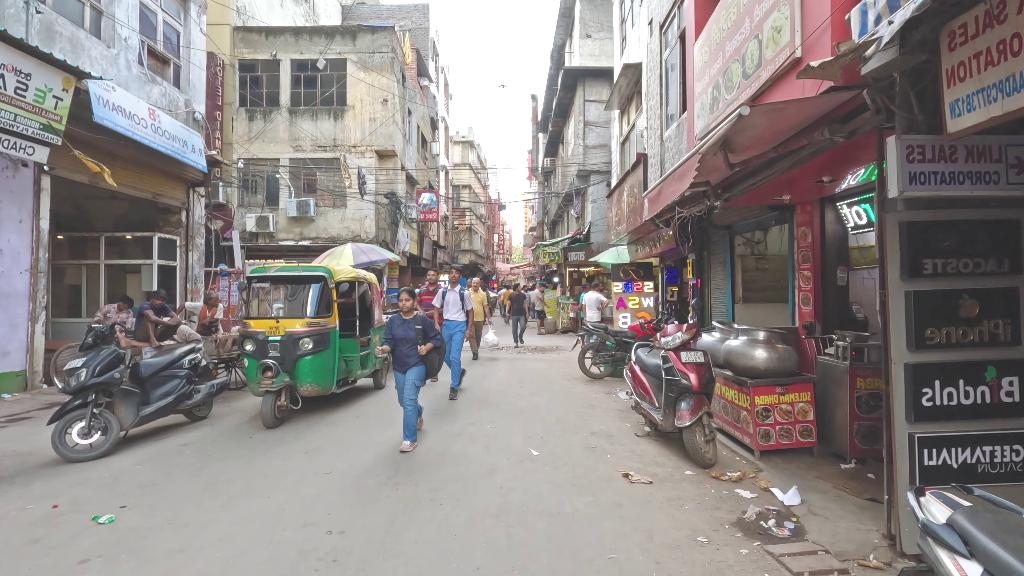garbage: (768, 481, 803, 510), (483, 322, 500, 348)
